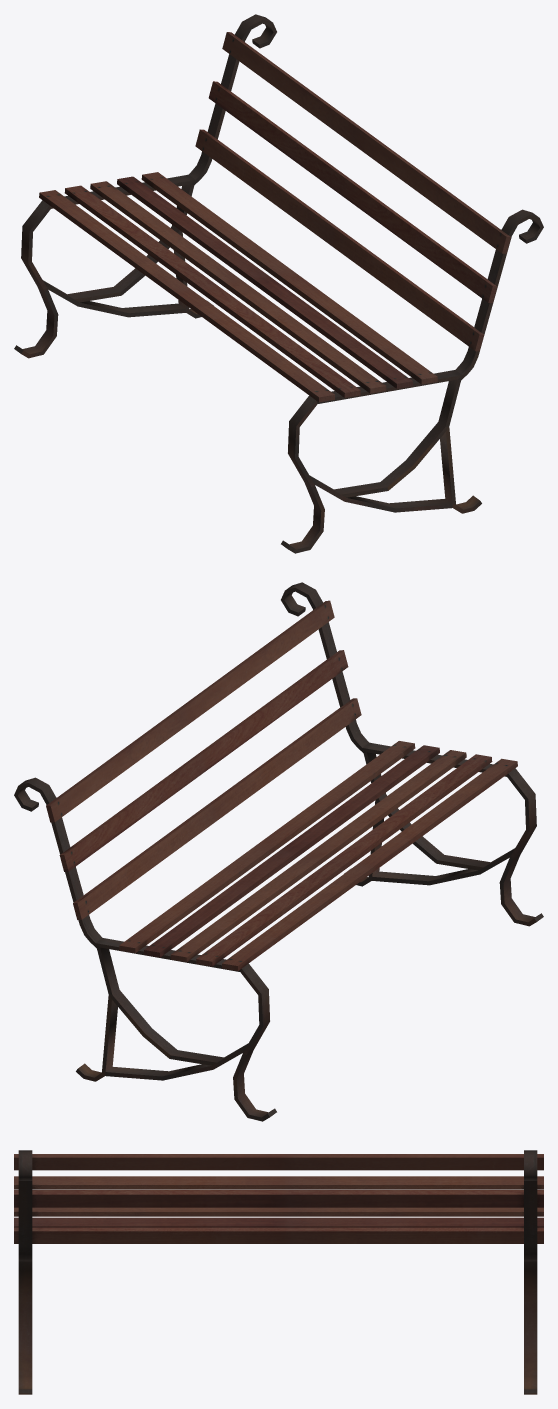
Rendered from bench.fbx.
3 renders of one model, top to bottom at view 1: azimuth 30°, elevation 25°; view 2: azimuth 150°, elevation 25°; view 3: azimuth 270°, elevation 25°, orthographic. The views are drawn at different scales.
Visible parts, largest first — view 1: steamsquad_bench; view 2: steamsquad_bench; view 3: steamsquad_bench.
Boxes of the visible parts, x1,y1,x2,y2 form: steamsquad_bench: (14, 14, 543, 553); steamsquad_bench: (14, 582, 543, 1121); steamsquad_bench: (14, 1150, 543, 1394).
Bounding box in the file's own units: 1.33 × 1.4 × 2.51.
